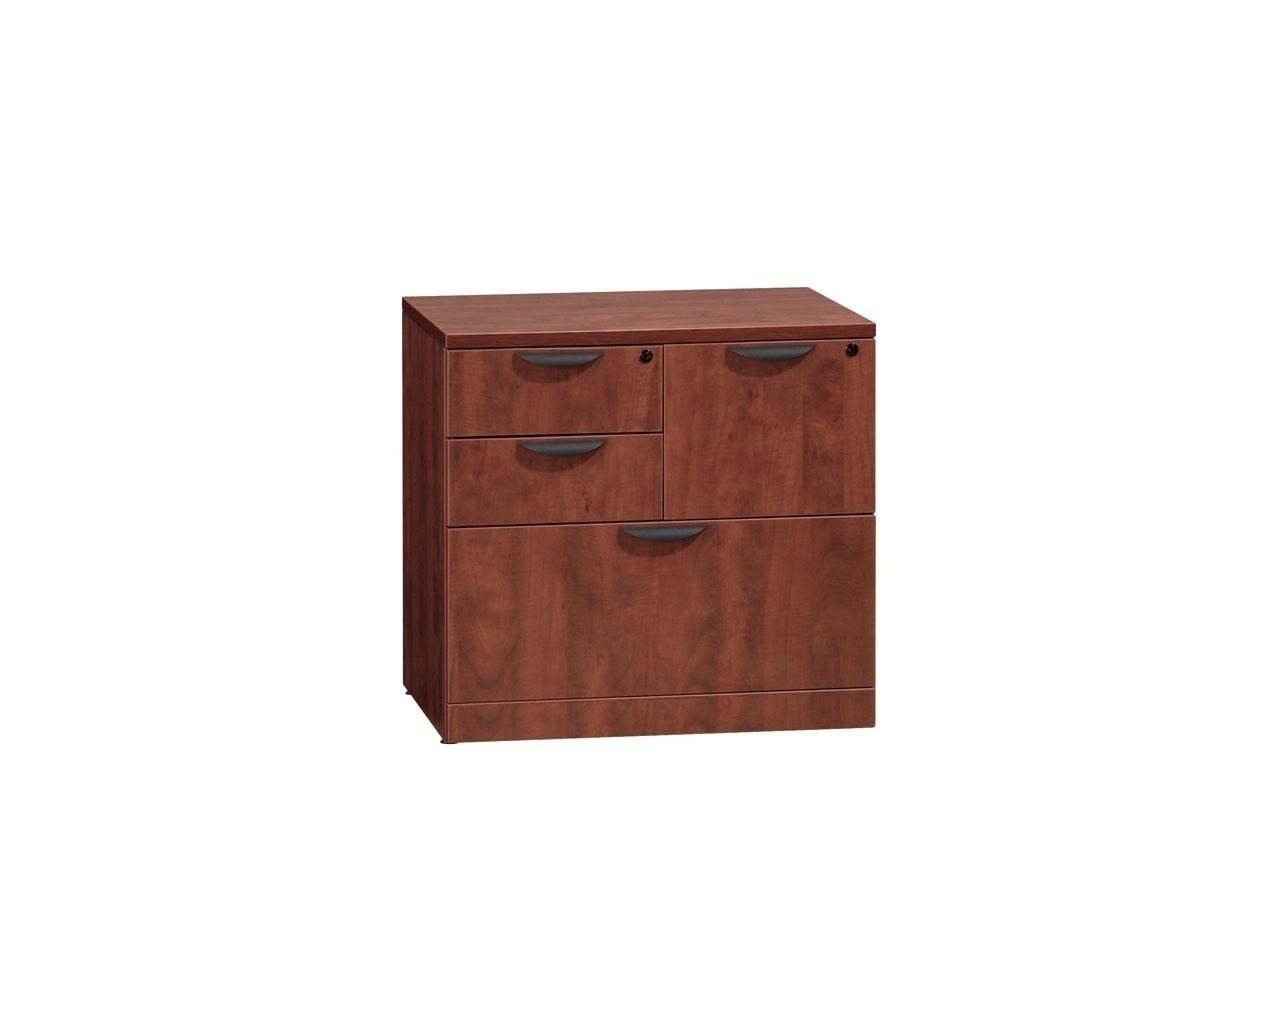cabinet_door: (443, 523, 868, 696), (662, 344, 869, 511), (451, 350, 664, 441), (450, 430, 660, 520)
handle: (619, 517, 713, 548), (518, 436, 607, 465), (514, 347, 603, 373), (728, 340, 813, 363)
